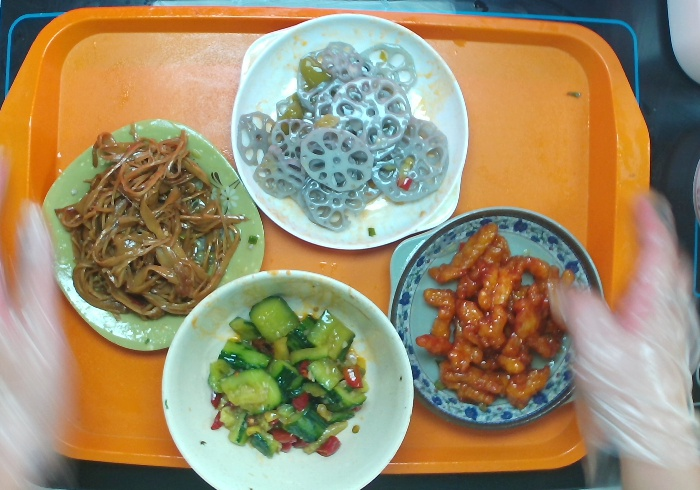NLDX-Bai_Se_Shuang_Er_Die: (233, 14, 469, 252)
NLDX-Bai_Se_Yuan_Wan: (157, 267, 416, 490)
NLDX-Lv_Hua_Fang_Die: (52, 114, 265, 352)
NLDX-Qing_Hua_Shuang_Er_Die: (384, 208, 602, 429)
